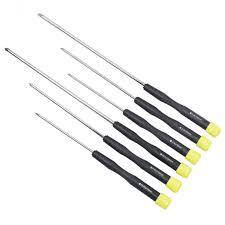screwdriver: (3, 46, 193, 178), (3, 46, 192, 177), (36, 12, 222, 138), (36, 12, 220, 137), (27, 81, 183, 193), (58, 46, 212, 150), (34, 111, 172, 209), (66, 71, 202, 164)
